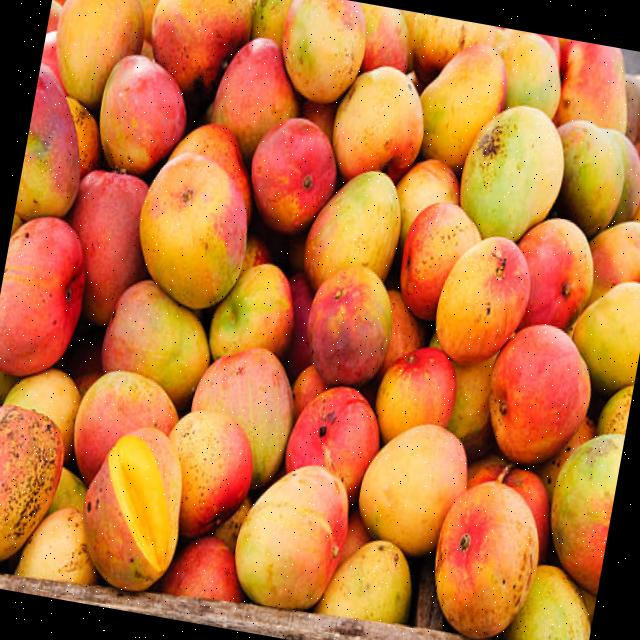mango: (139, 154, 247, 308), (434, 480, 538, 638), (84, 426, 181, 590), (235, 466, 348, 606), (191, 347, 293, 488), (358, 425, 467, 555), (489, 324, 590, 464), (101, 282, 209, 409), (460, 107, 563, 239), (0, 218, 85, 376), (66, 170, 148, 325), (435, 237, 530, 364), (550, 433, 624, 594), (303, 170, 401, 290), (74, 370, 178, 483), (284, 386, 378, 505), (421, 44, 506, 174), (211, 38, 298, 163), (169, 410, 253, 537), (332, 66, 423, 181), (14, 64, 80, 220), (99, 56, 185, 175), (151, 0, 249, 103), (307, 268, 393, 385), (0, 404, 64, 559), (251, 118, 336, 234), (56, 0, 144, 110), (400, 202, 481, 319), (282, 0, 366, 103), (518, 218, 593, 329), (209, 263, 294, 359), (315, 539, 411, 624), (169, 125, 252, 223), (375, 348, 457, 442), (558, 120, 624, 235), (572, 284, 640, 395), (5, 367, 80, 462), (553, 39, 627, 132), (504, 567, 590, 640), (15, 506, 96, 582), (160, 535, 244, 603), (398, 158, 459, 251), (589, 220, 640, 302)
